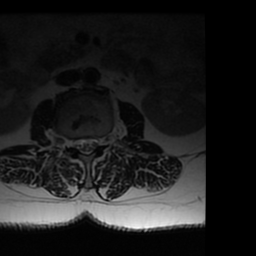CCS_normal: (82, 128, 89, 162)
LFS_normal: (97, 128, 105, 154)
LLS_normal: (89, 128, 97, 157)
RFS_normal: (65, 130, 74, 154)
RLS_normal: (73, 129, 82, 156)
